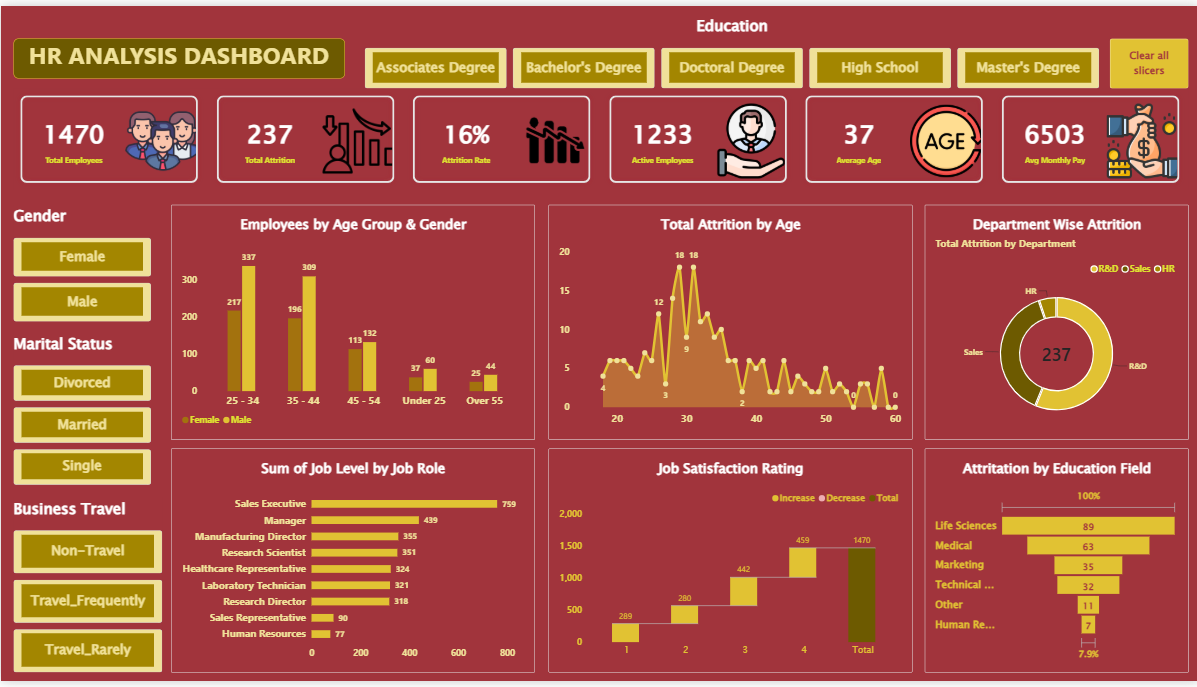

What the dashboard file says about the page in this screenshot:
{"tool":"powerbi","page":{"name":"Page 1","canvas":[1920,1080],"ordinal":0},"visuals":[{"type":"cardVisual","fields":{"Data":["All Measures.Total Employees","All Measures.Total Attrition","All Measures.Attrition Rate","All Measures.Active Employees","Avg(HR data.Age)","Avg(HR data.Monthly Income)"]},"box":[20,132,1880,162],"z":0},{"type":"clusteredColumnChart","title":"Employees by Age Group & Gender","fields":{"Category":["HR data.Age Group"],"Series":["HR data.Gender"],"Y":["All Measures.Total Employees"]},"box":[272,318,582,376],"z":1000},{"type":"areaChart","fields":{"Category":["HR data.Age"],"Y":["All Measures.Total Attrition"]},"box":[876,318,582,376],"z":2000},{"type":"donutChart","title":"Department Wise Attrition","fields":{"Category":["HR data.Department"],"Y":["All Measures.Total Attrition"]},"box":[1478,318,422,376],"z":3000},{"type":"clusteredBarChart","fields":{"Category":["HR data.Job Role"],"Y":["Sum(HR data.Job Level)"]},"box":[272,708,582,358],"z":4000},{"type":"waterfallChart","title":"Job Satisfaction Rating","fields":{"Category":["HR data.Job Role","HR data.Job Satisfaction"],"Y":["All Measures.Total Employees"]},"box":[876,708,582,358],"z":5000},{"type":"funnel","title":"Attritation by Education Field","fields":{"Category":["HR data.Education Field"],"Y":["All Measures.Total Attrition"]},"box":[1478,708,422,358],"z":6000},{"type":"advancedSlicerVisual","title":"Gender","fields":{"Values":["HR data.Gender"]},"box":[20,318,220,188],"z":7000},{"type":"advancedSlicerVisual","title":"Marital Status","fields":{"Values":["HR data.Marital Status"]},"box":[20,522,220,246],"z":7001},{"type":"advancedSlicerVisual","title":"Business Travel","fields":{"Values":["HR data.Business Travel"]},"box":[20,786,238,280],"z":7002},{"type":"advancedSlicerVisual","title":"Education","fields":{"Values":["HR data.Education"]},"box":[582,14,1176,118],"z":7003},{"type":"actionButton","box":[1774,52,126,80],"z":7004},{"type":"textbox","box":[20,52,530,64],"z":7005}]}

Visuals, with their boxes in screenshot pixels (x1, y1, x2, y2), scaled from the page's 1920x1080 canvas onto the 1197x687 screenshot:
cardVisual - All Measures.Total Employees x All Measures.Total Attrition: box(12, 84, 1185, 187)
"Employees by Age Group & Gender" clusteredColumnChart: box(170, 202, 532, 441)
areaChart - HR data.Age x All Measures.Total Attrition: box(546, 202, 909, 441)
"Department Wise Attrition" donutChart: box(921, 202, 1185, 441)
clusteredBarChart - HR data.Job Role x Sum(HR data.Job Level): box(170, 450, 532, 678)
"Job Satisfaction Rating" waterfallChart: box(546, 450, 909, 678)
"Attritation by Education Field" funnel: box(921, 450, 1185, 678)
"Gender" advancedSlicerVisual: box(12, 202, 150, 322)
"Marital Status" advancedSlicerVisual: box(12, 332, 150, 489)
"Business Travel" advancedSlicerVisual: box(12, 500, 161, 678)
"Education" advancedSlicerVisual: box(363, 9, 1096, 84)
actionButton: box(1106, 33, 1185, 84)
textbox: box(12, 33, 343, 74)
